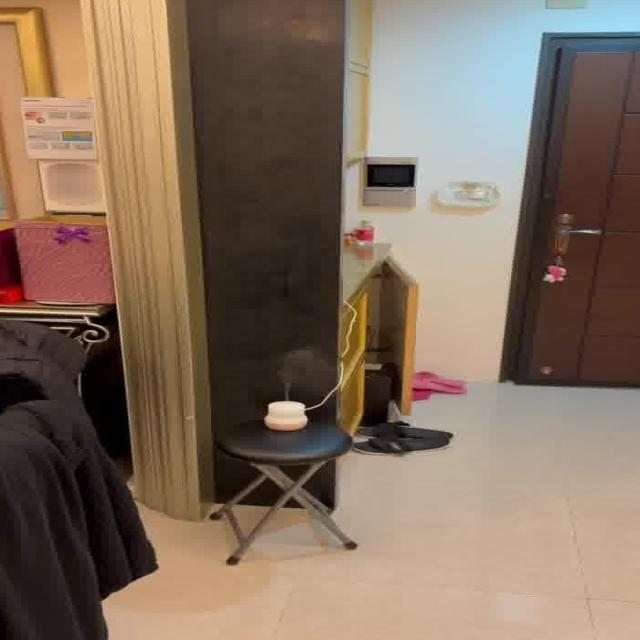fire: (277, 348, 322, 393)
